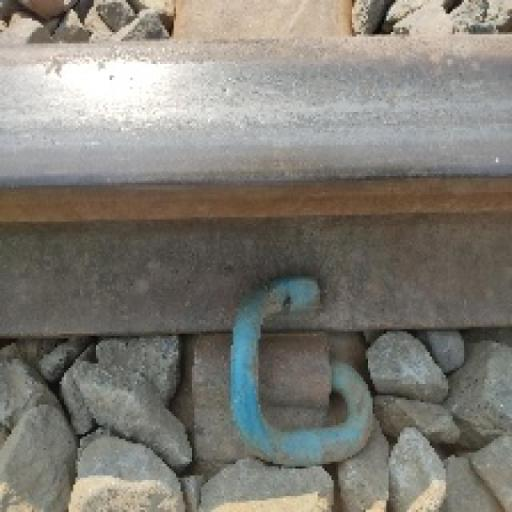erc_good: (190, 279, 373, 469)
